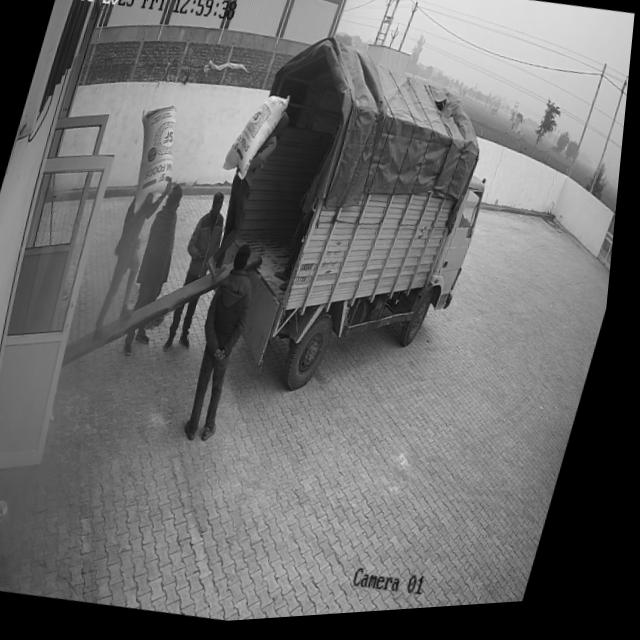sack: (118, 102, 194, 223), (223, 89, 295, 190)
